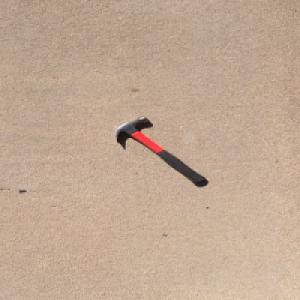Hammer: (113, 115, 206, 184)
